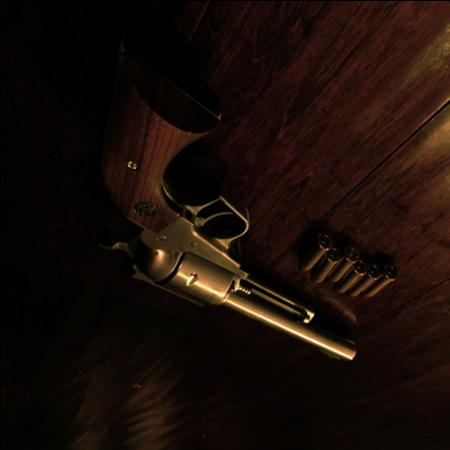Pistol: (104, 33, 360, 366)
